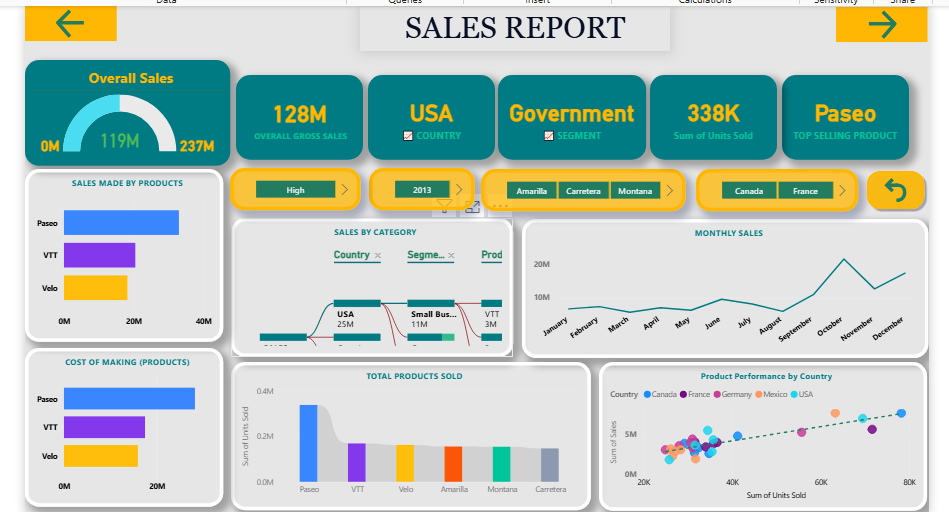

Layout of this report page (visuals, bound fields, positions):
{"tool":"powerbi","page":{"name":" SALES","canvas":[1280,720],"ordinal":2},"visuals":[{"type":"gauge","title":"Overall Sales","fields":{"Y":["Sum(Sheet1.Sales)"]},"box":[0,76.5,290.6,150.2],"z":0},{"type":"card","fields":{"Values":["Sum(Sheet1.Gross Sales)"]},"box":[299.1,97.8,180,120.5],"z":1000},{"type":"textbox","box":[475,1.7,440,63.3],"z":2000},{"type":"decompositionTreeVisual","title":"SALES BY CATEGORY","fields":{"Analyze":["Sum(Sheet1.Sales)"],"ExplainBy":["Sheet1.Country","Sheet1.Segment","Sheet1.Product"]},"box":[292,300.5,399.7,197],"z":3000},{"type":"clusteredBarChart","title":"SALES MADE BY PRODUCTS","fields":{"Category":["Sheet1.Product"],"Y":["Sum(Sheet1.Sales)"]},"box":[0,231,280.6,245.2],"z":4000},{"type":"lineChart","title":"MONTHLY SALES","fields":{"Y":["Sum(Sheet1.Sales)"],"Category":["Sheet1.Date.Variation.Date Hierarchy.Month"]},"box":[703.8,301.2,576.2,197],"z":5000},{"type":"ribbonChart","title":"TOTAL PRODUCTS SOLD","fields":{"Category":["Sheet1.Product"],"Y":["Sum(Sheet1.Units Sold)"]},"box":[292,504.6,510.2,209.8],"z":6000},{"type":"card","fields":{"Values":["Min(Sheet1.Country)"]},"box":[486.1,97.8,180,120.5],"z":7000},{"type":"scatterChart","title":"Product Performance by Country","fields":{"X":["Sum(Sheet1.Units Sold)"],"Y":["Sum(Sheet1.Sales)"],"Category":["Sheet1.Product"],"Series":["Sheet1.Country"]},"box":[813.5,504.6,464.9,211.2],"z":8000},{"type":"clusteredBarChart","title":"COST OF MAKING (PRODUCTS)","fields":{"Category":["Sheet1.Product"],"Y":["Sum(Sheet1.COGS)"]},"box":[0,484.7,280.6,225.3],"z":9000},{"type":"slicer","fields":{"Values":["Sheet1.Year"]},"box":[487.6,230,150.2,60],"z":10000},{"type":"card","fields":{"Values":["Min(Sheet1.Segment)"]},"box":[670.4,97.8,209.8,120.5],"z":11000},{"type":"card","fields":{"Values":["Min(Sheet1.Product)"]},"box":[1072.9,97.8,180,120.5],"z":12000},{"type":"slicer","fields":{"Values":["Sheet1.Product"]},"box":[646.2,231.2,290,60],"z":13000},{"type":"slicer","fields":{"Values":["Sheet1.Discount Band"]},"box":[290.6,230,185,60],"z":14000},{"type":"card","fields":{"Values":["Sum(Sheet1.Units Sold)"]},"box":[885.8,97.8,180,120.5],"z":15000},{"type":"slicer","fields":{"Values":["Sheet1.Country"]},"box":[951.2,231.2,230,60],"z":16000},{"type":"actionButton","box":[1187.5,228.8,92.5,65],"z":17000},{"type":"actionButton","box":[0,0,130.4,50],"z":18000},{"type":"actionButton","box":[1150,1.2,130,50],"z":19000}]}

Visuals, with their boxes in screenshot pixels (x1, y1, x2, y2):
"Overall Sales" gauge: (22, 59, 226, 164)
card - Sum(Sheet1.Gross Sales): (232, 73, 358, 158)
textbox: (355, 6, 663, 50)
"SALES BY CATEGORY" decompositionTreeVisual: (227, 215, 507, 354)
"SALES MADE BY PRODUCTS" clusteredBarChart: (22, 167, 219, 339)
"MONTHLY SALES" lineChart: (515, 216, 919, 354)
"TOTAL PRODUCTS SOLD" ribbonChart: (227, 359, 584, 506)
card - Min(Sheet1.Country): (363, 73, 489, 158)
"Product Performance by Country" scatterChart: (592, 359, 918, 506)
"COST OF MAKING (PRODUCTS)" clusteredBarChart: (22, 345, 219, 502)
slicer - Sheet1.Year: (364, 166, 469, 208)
card - Min(Sheet1.Segment): (492, 73, 639, 158)
card - Min(Sheet1.Product): (774, 73, 900, 158)
slicer - Sheet1.Product: (475, 167, 678, 209)
slicer - Sheet1.Discount Band: (226, 166, 355, 208)
card - Sum(Sheet1.Units Sold): (643, 73, 769, 158)
slicer - Sheet1.Country: (689, 167, 850, 209)
actionButton: (854, 165, 919, 211)
actionButton: (22, 5, 114, 40)
actionButton: (828, 6, 919, 41)
